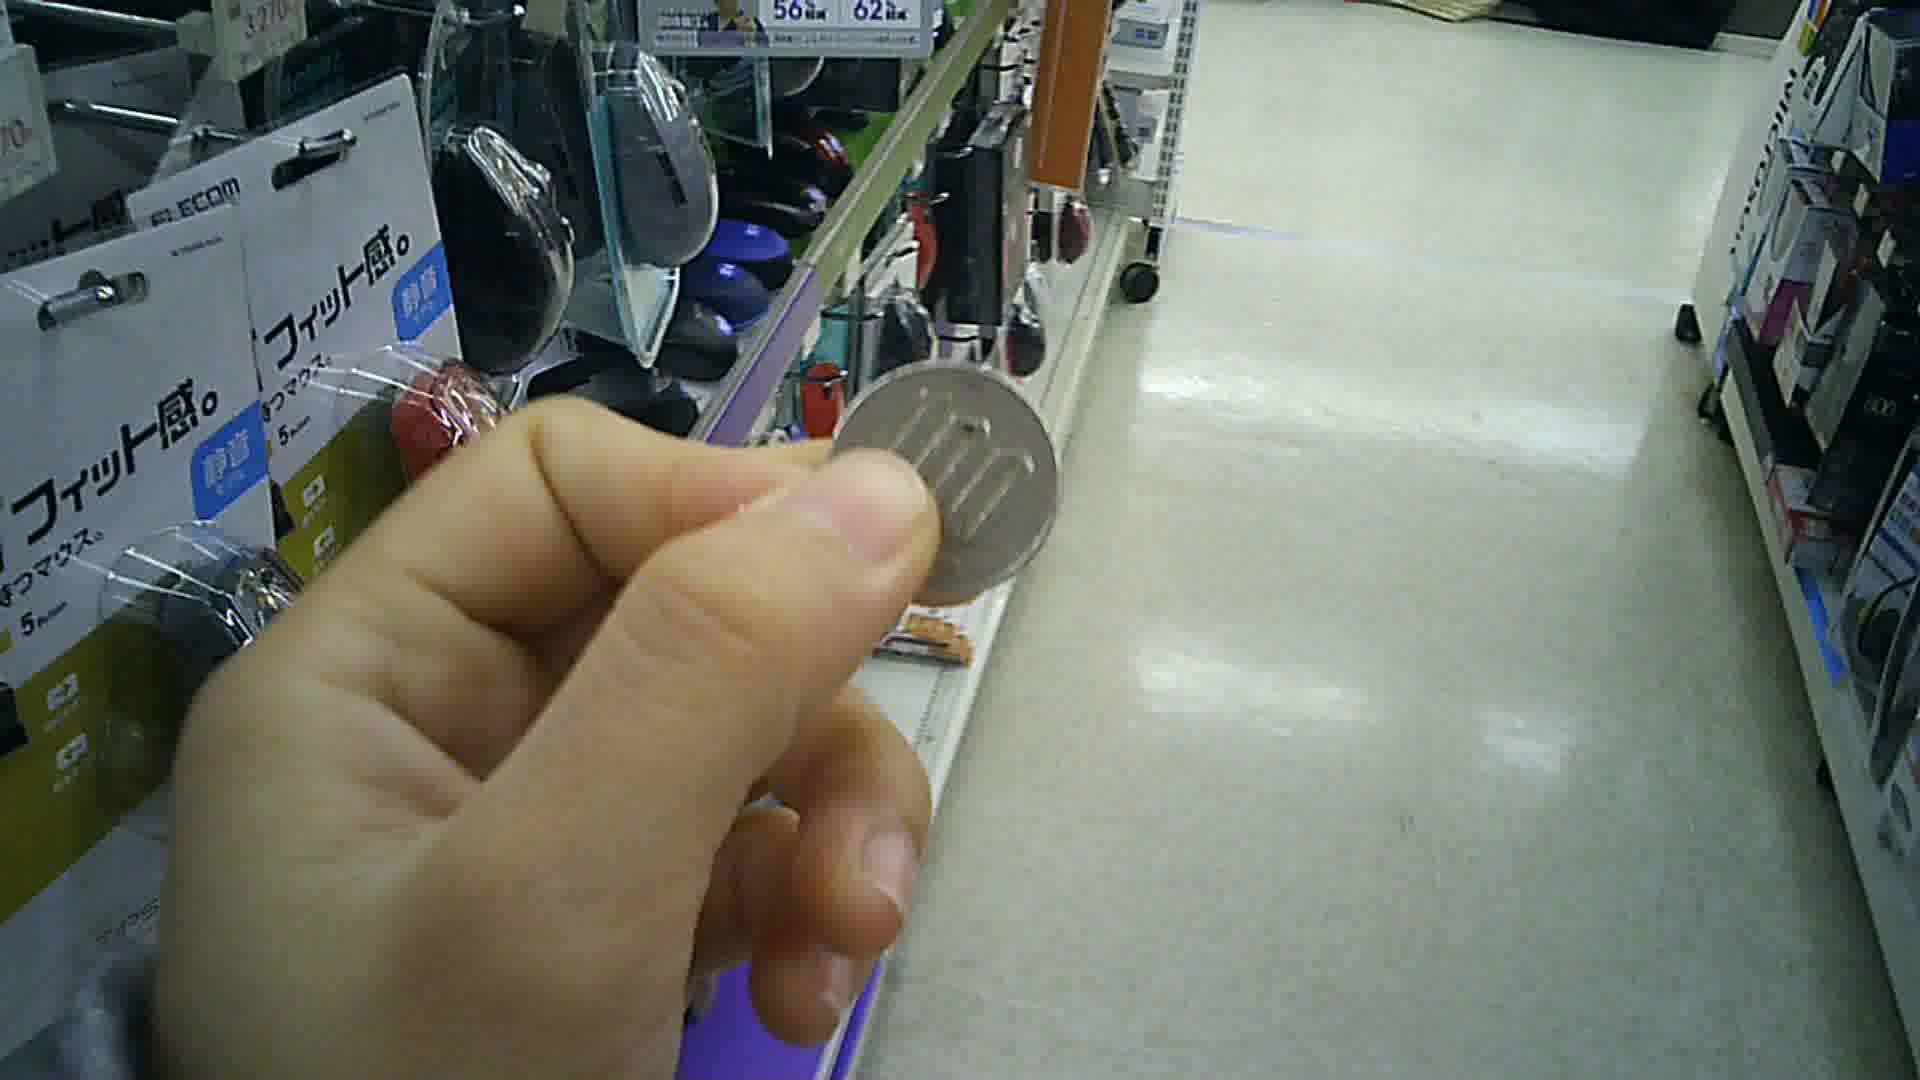100 Yen: (816, 365, 1068, 601)
